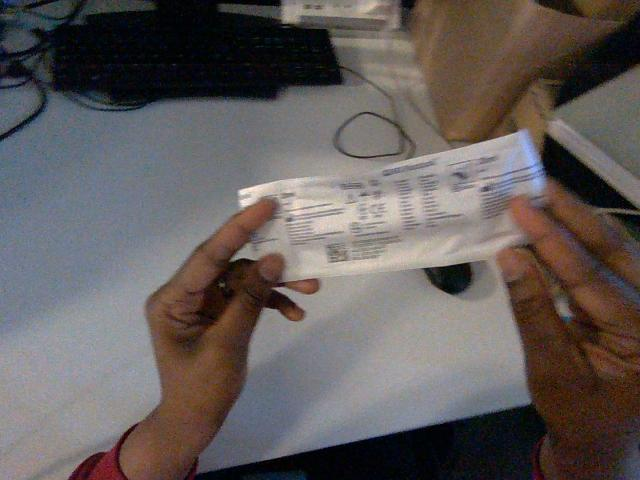syringe: (239, 131, 545, 280)
